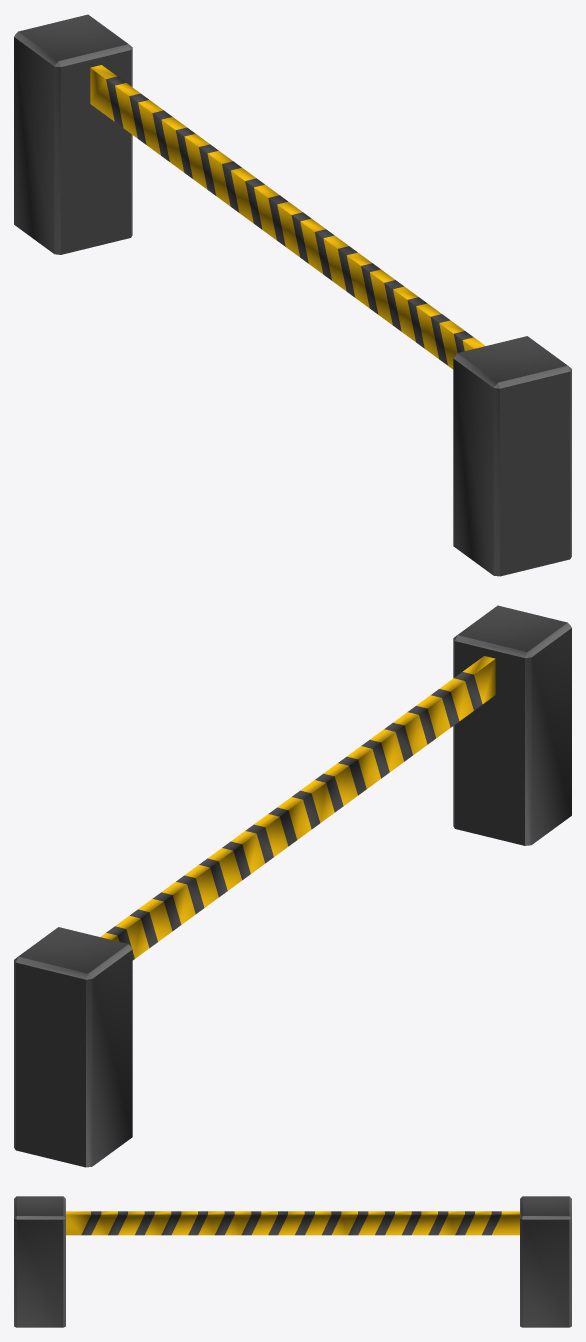
Rendered from Barricade Slide.fbx.
3 views of the same model, one above another, from view 1: azimuth 30°, elevation 25°; view 2: azimuth 150°, elevation 25°; view 3: azimuth 270°, elevation 25° (orthographic). The views are drawn at different scales.
Parts seen in each view (by area): view 1: Factory Stop_1 Door_Color_0; view 2: Factory Stop_1 Door_Color_0; view 3: Factory Stop_1 Door_Color_0.
Part boxes in pixels (x1,y1,x2,y2): Factory Stop_1 Door_Color_0: (14, 14, 571, 576); Factory Stop_1 Door_Color_0: (14, 605, 571, 1167); Factory Stop_1 Door_Color_0: (14, 1196, 571, 1327).
Size of the model in its own units: 131 by 306 by 1399.
1 material, 1 textured.
